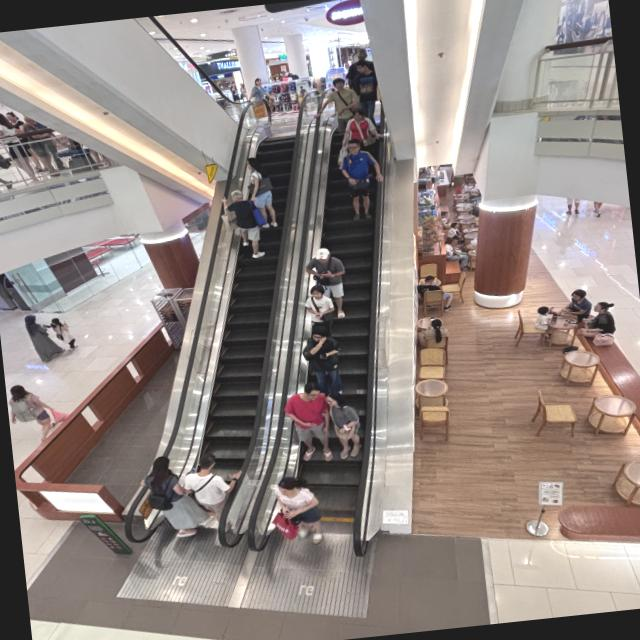escalator: (101, 84, 322, 613), (236, 81, 400, 619)
